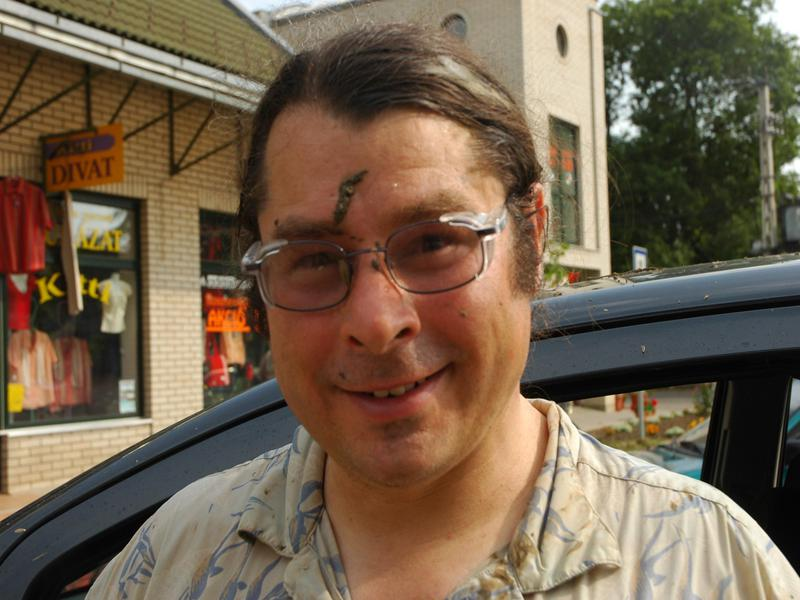person: (94, 28, 797, 600)
